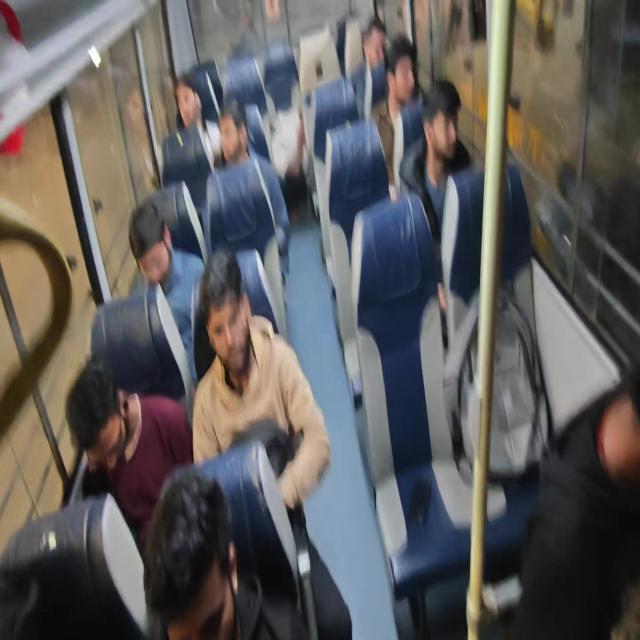person: (147, 464, 249, 640), (59, 355, 148, 486), (198, 245, 255, 381), (125, 187, 181, 301), (418, 81, 464, 168), (388, 26, 420, 123), (173, 62, 209, 140), (216, 96, 246, 174), (352, 15, 388, 73)
